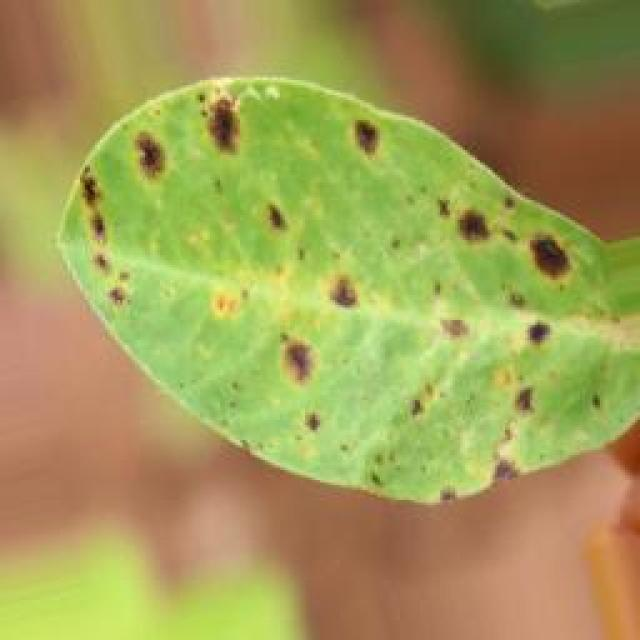Yellowish: (76, 83, 621, 486)
